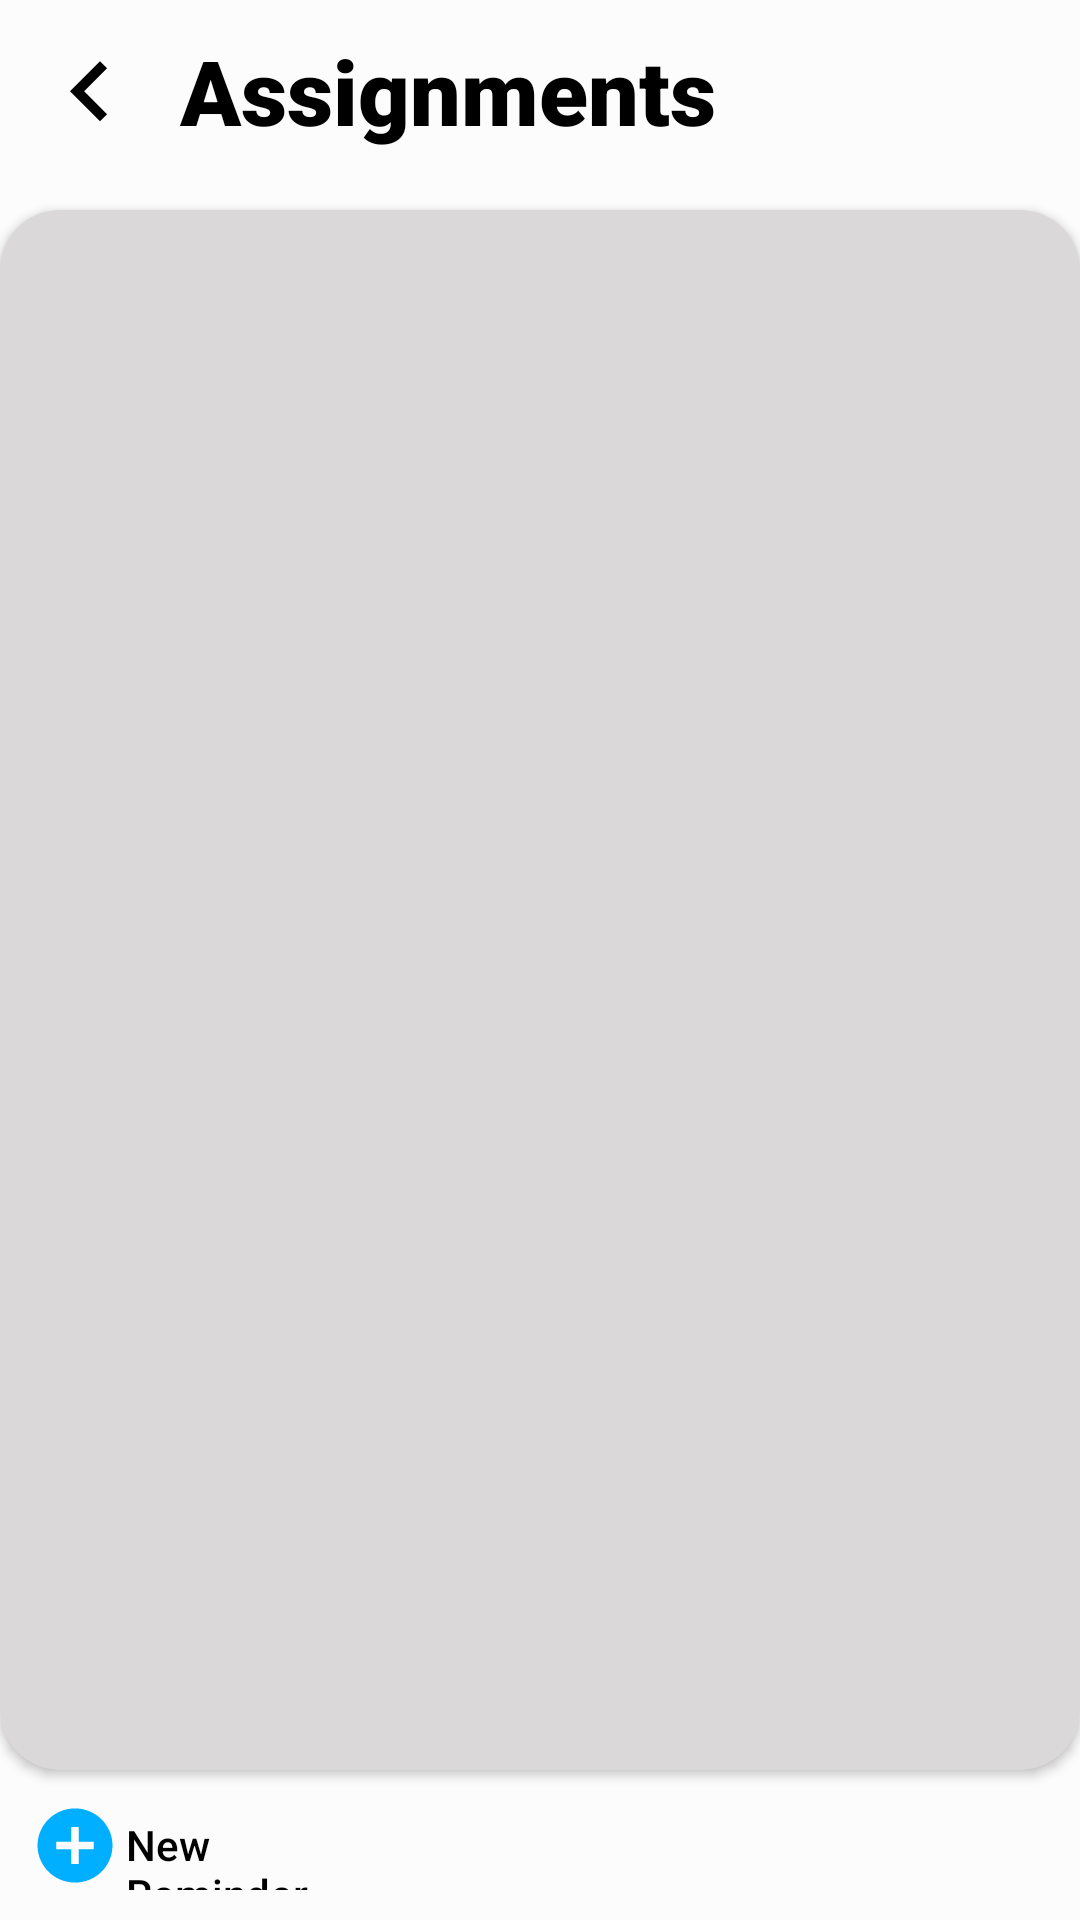

Locate icon controls on the screen. Image size 1080 × 1920, boxes as (x1, y1, x2, y2).
add circle: (37, 1808, 113, 1883)
